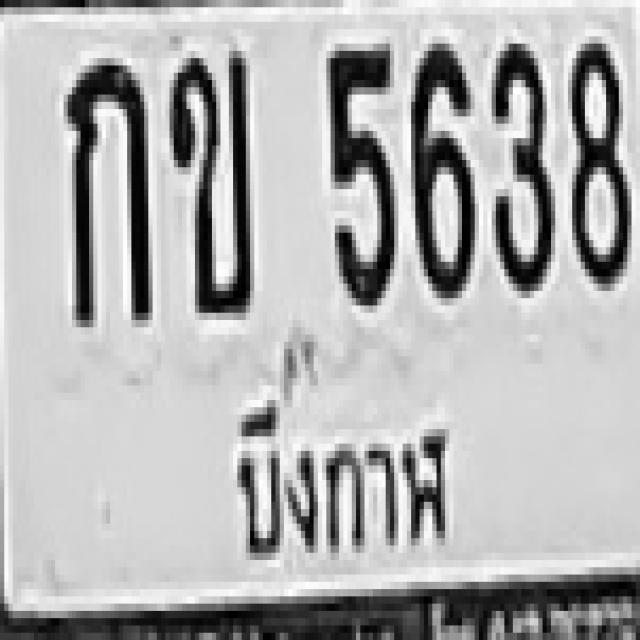10GorGai: (64, 51, 148, 320)
11KhorKhai: (165, 47, 250, 309)
3: (487, 36, 551, 291)
5: (324, 40, 392, 302)
6: (407, 36, 470, 291)
8: (568, 36, 627, 284)
BuengKan: (212, 389, 466, 588)
